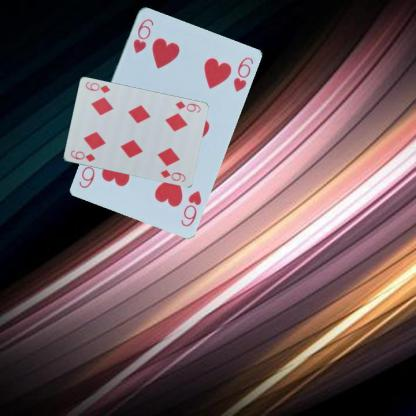6d: (172, 98, 202, 114), (67, 148, 96, 163)
6h: (178, 187, 203, 228), (130, 15, 155, 55)
